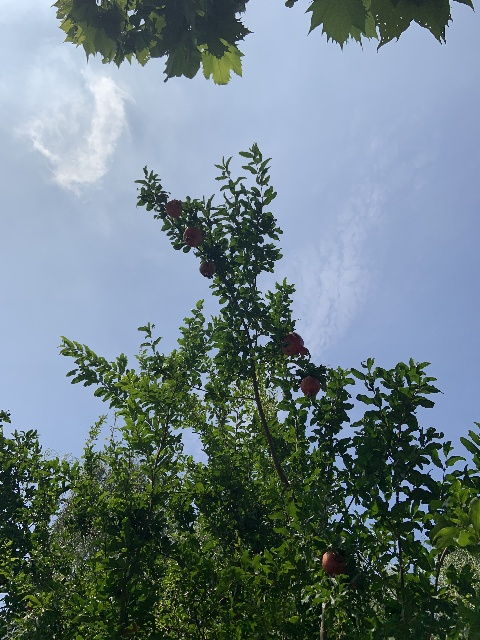ripe: (281, 332, 309, 357), (322, 551, 346, 577), (182, 225, 202, 247), (300, 376, 320, 397), (165, 198, 182, 218), (199, 261, 215, 279)
